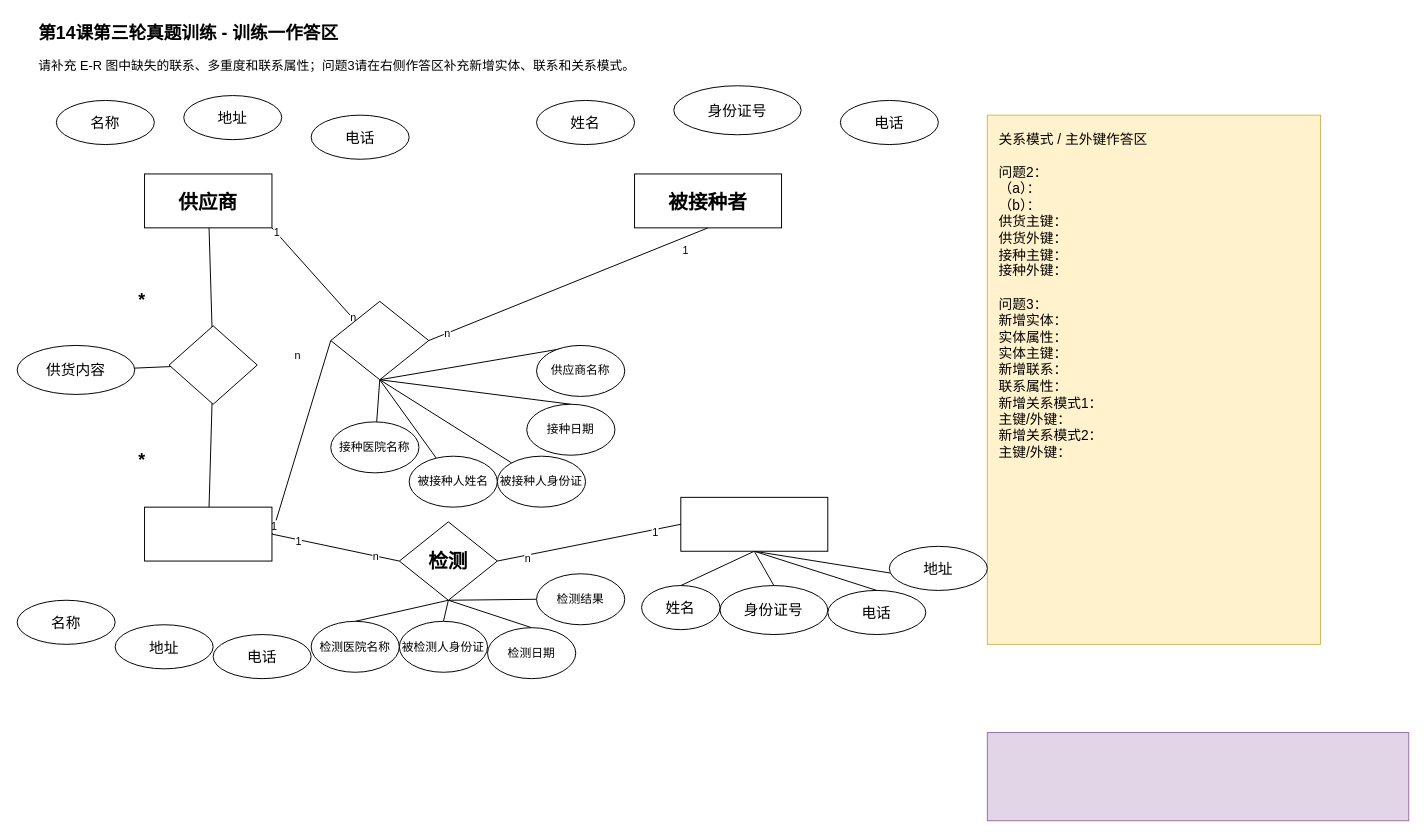
Some shapes in this 1426 by 838 pixel diagram are drawn without their labels. Each missing label, with the centre of its shape:
"作图提示：本题已有“供货”联系；请重点补全“接种”的参与实体、多重度和联系属性。问题3需要新增实体与检测联系。" goes at point (1197, 776).
"供货" goes at point (212, 364).
"医院" goes at point (208, 533).
"接种" goes at point (379, 340).
"被检测者" goes at point (754, 523).
